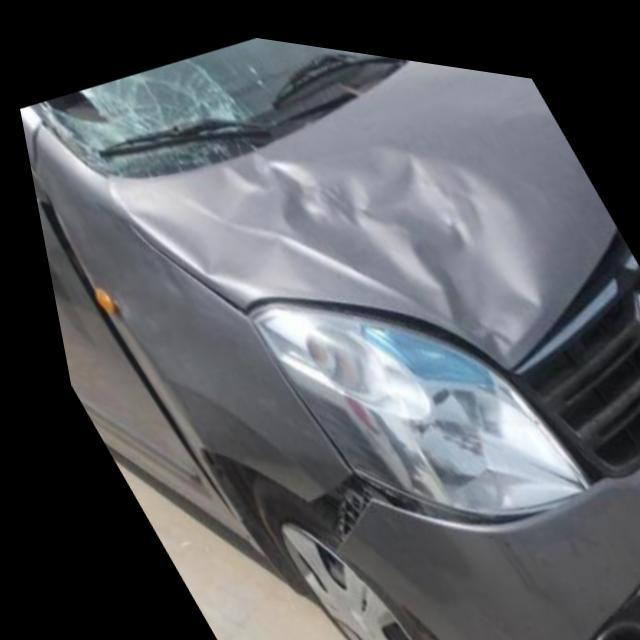dent: (98, 134, 535, 342)
dislocated part: (30, 203, 220, 520), (495, 202, 625, 360), (286, 464, 539, 545)
glass shatter: (16, 50, 258, 183)
